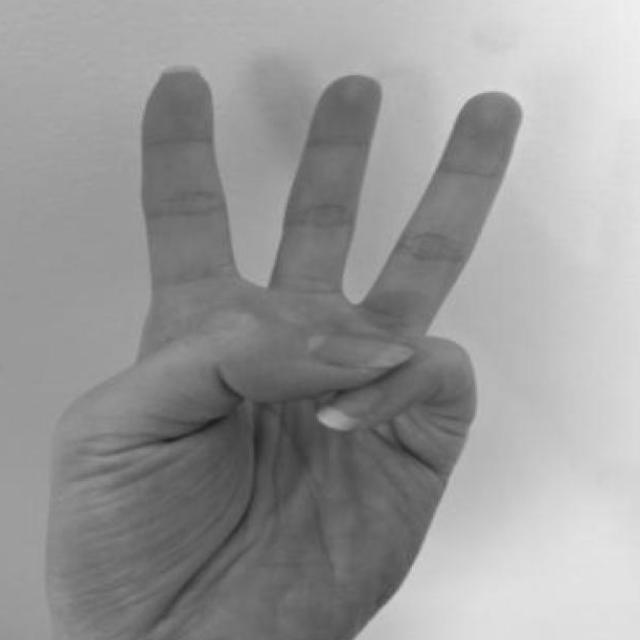W: (48, 56, 541, 640)
